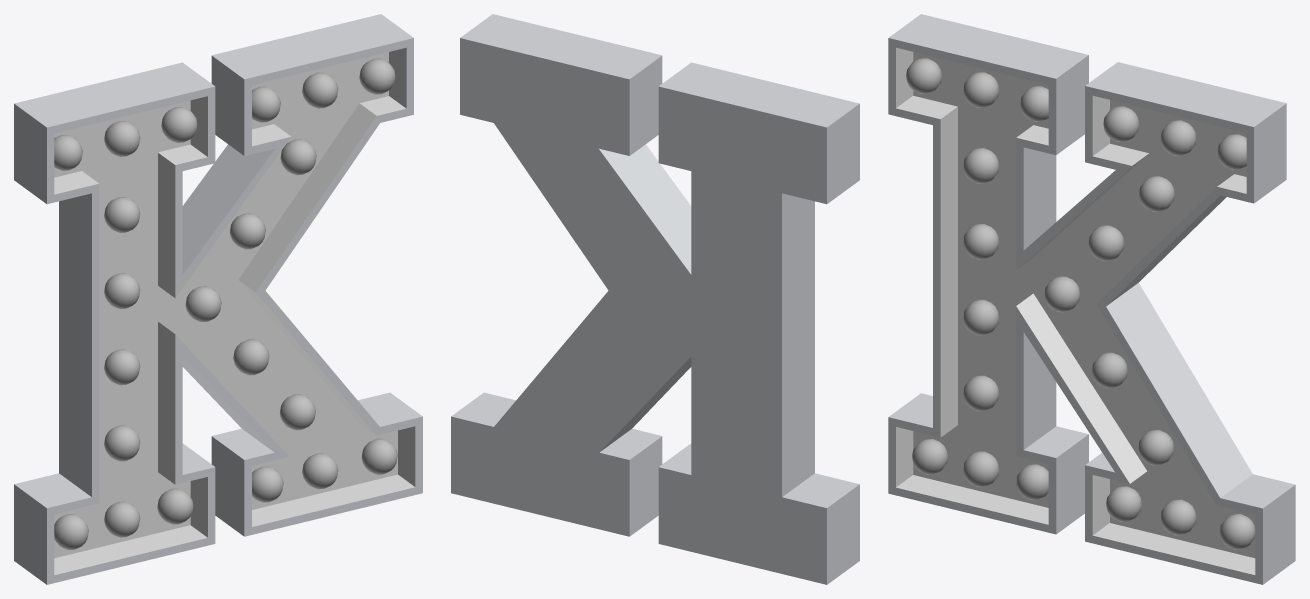
File: LettersBulb01_K.FBX
3 views of the same model, side by side, from view 1: azimuth 30°, elevation 25°; view 2: azimuth 150°, elevation 25°; view 3: azimuth 330°, elevation 25° (orthographic).
Visible parts, largest first — view 1: LettersBulb01_K; view 2: LettersBulb01_K; view 3: LettersBulb01_K.
Part boxes in pixels (x1,y1,x2,y2): LettersBulb01_K: [14, 14, 422, 584]; LettersBulb01_K: [451, 14, 859, 584]; LettersBulb01_K: [888, 14, 1295, 584].
Size of what is drawn, in the model's own units: 1.03 by 1.2 by 0.1563.
